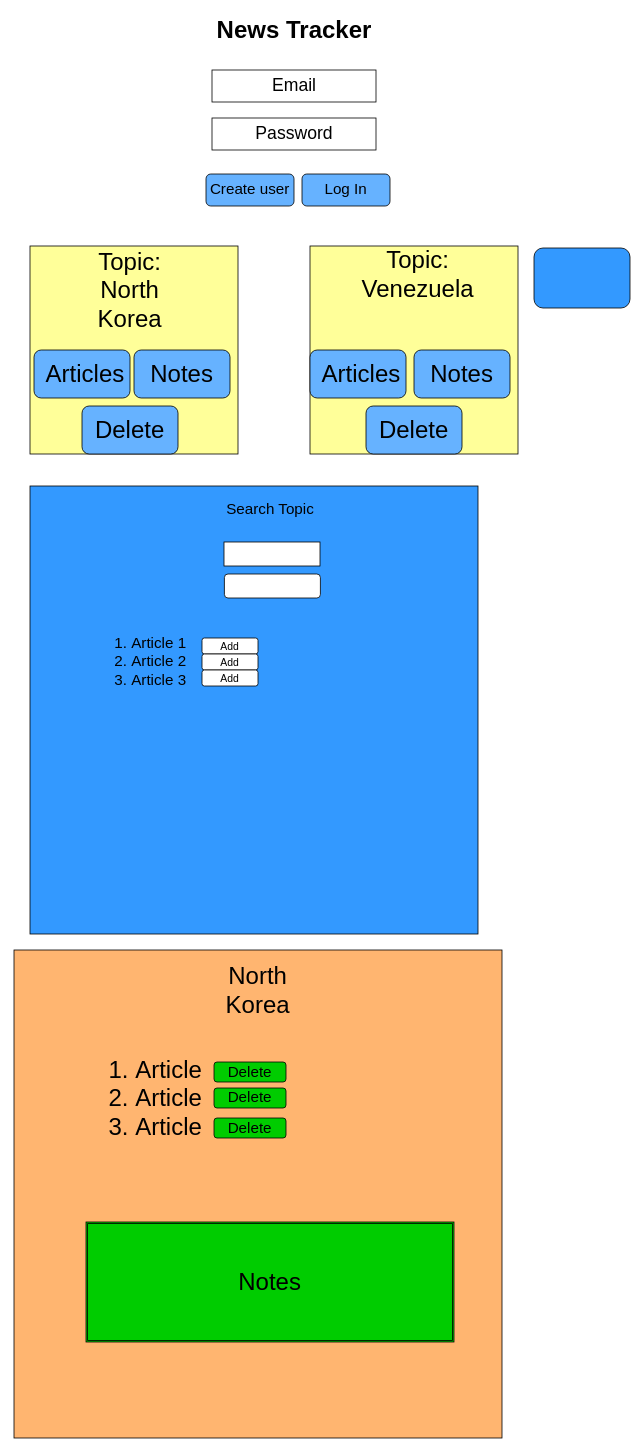
Some shapes in this 644 by 1452 pixel diagram are drawn without their labels. The shapes that lost their labels are listed below. From the top down, each one's centre as x and y in pixels, then its label:
point (581, 277): Add Topic
point (272, 585): Search
